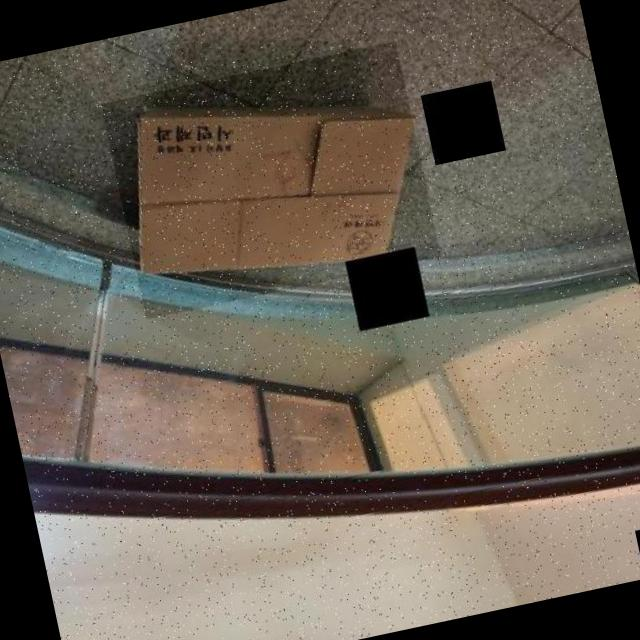box: (100, 40, 440, 319)
